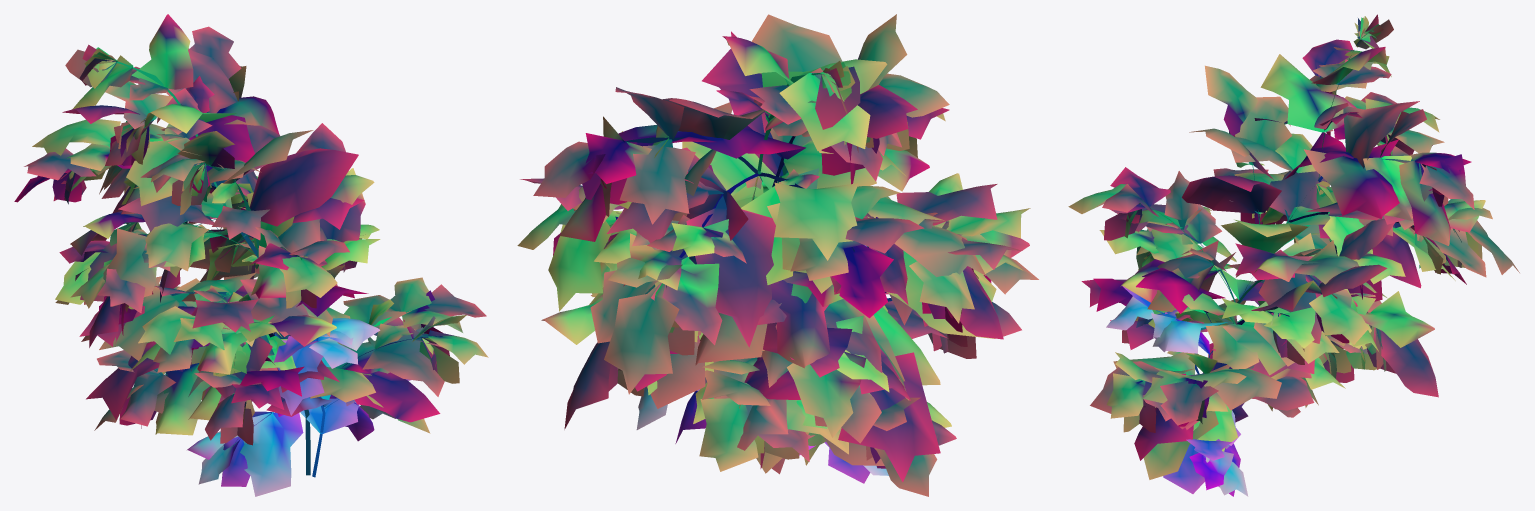
The model's file is Elderberry_wfzobb2ia_Mid_wfzobb2ia_VarA_LOD1.fbx.
3 views of the same model, side by side, from view 1: azimuth 30°, elevation 25°; view 2: azimuth 150°, elevation 25°; view 3: azimuth 270°, elevation 25° (orthographic). The views are drawn at different scales.
Visible parts, largest first — view 1: _fxse_VarA_LOD3; view 2: _fxse_VarA_LOD3; view 3: _fxse_VarA_LOD3.
Boxes of the visible parts, <box> form: _fxse_VarA_LOD3: <box>14,14,488,496</box>; _fxse_VarA_LOD3: <box>517,14,1038,496</box>; _fxse_VarA_LOD3: <box>1068,14,1519,496</box>.
Bounding box in the file's own units: 111 × 119 × 121.
